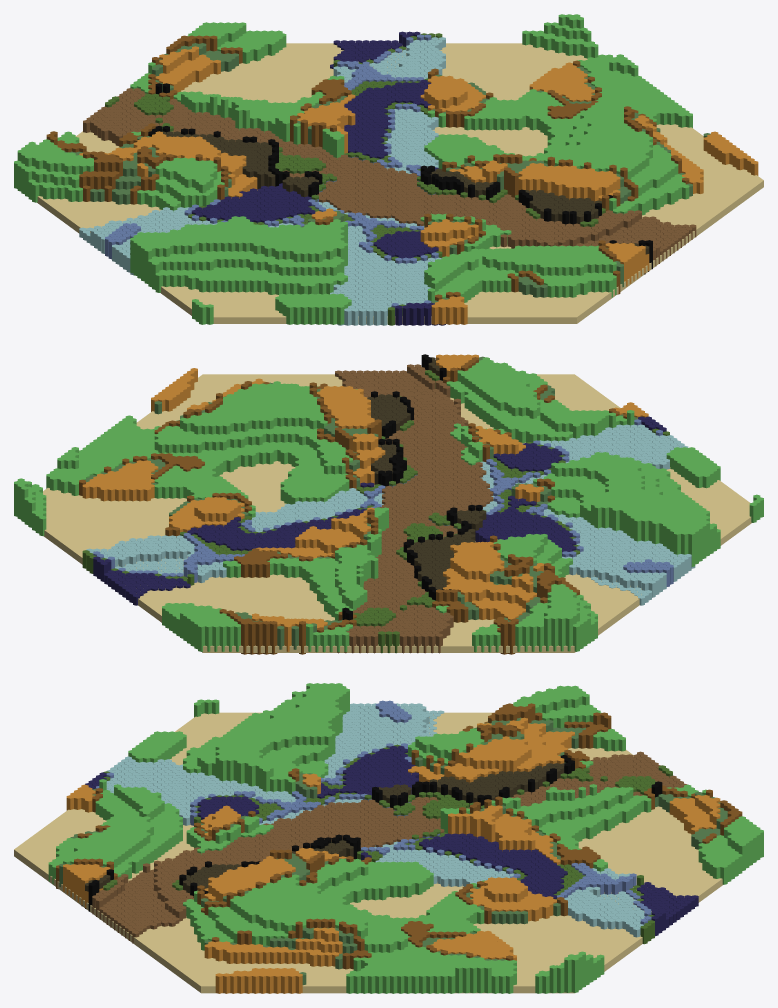
File: 0048_tile_1001021.fbx
The picture shows the model from 3 angles, top to bottom: view 1: azimuth 30°, elevation 25°; view 2: azimuth 150°, elevation 25°; view 3: azimuth 270°, elevation 25°; orthographic projection.
Parts seen in each view (by area): view 1: Plane; view 2: Plane; view 3: Plane.
Part boxes in pixels (x1,y1,x2,y2): Plane: (14, 14, 763, 325); Plane: (14, 354, 763, 654); Plane: (14, 683, 763, 993).
Size of the model in its own units: 1008 by 67.57 by 1152.
